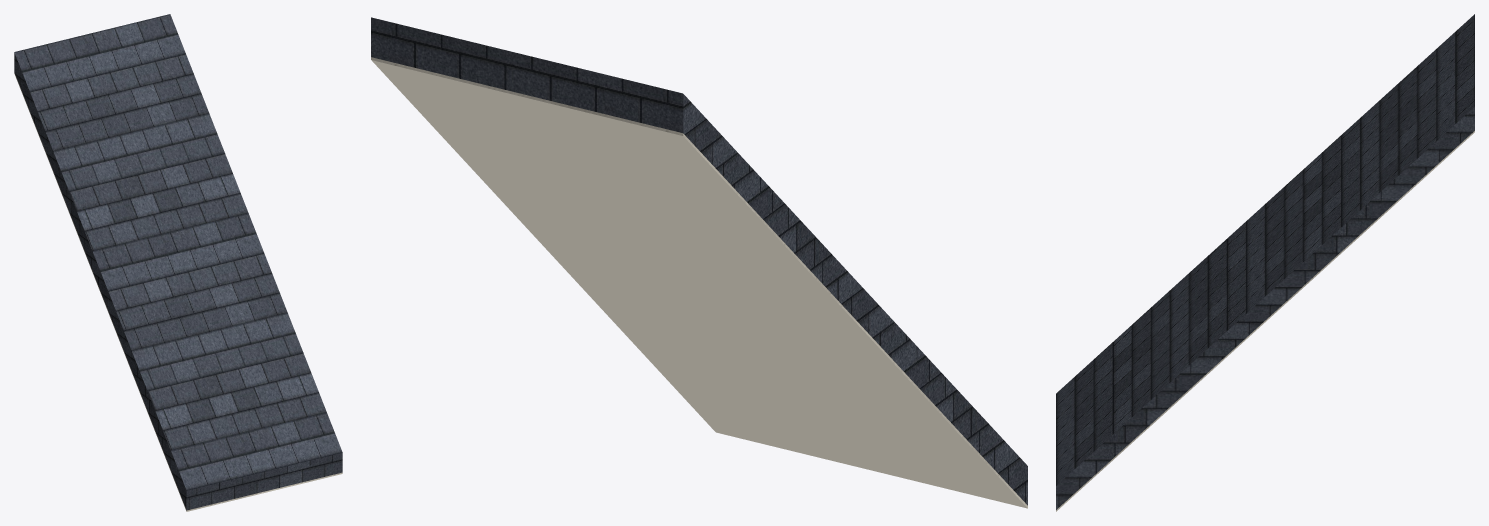
Rendered from roof_slope_end.glb.
The picture shows the model from 3 angles, left to right: view 1: azimuth 30°, elevation 25°; view 2: azimuth 150°, elevation 25°; view 3: azimuth 270°, elevation 25°; orthographic projection. The views are drawn at different scales.
Parts seen in each view (by area): view 1: roof_slope_end_shingle, roof_slope_end_plaster; view 2: roof_slope_end_plaster, roof_slope_end_shingle; view 3: roof_slope_end_shingle, roof_slope_end_plaster.
Boxes of the visible parts, bbox=[...] form: roof_slope_end_shingle: bbox=[14, 14, 342, 510]; roof_slope_end_plaster: bbox=[14, 73, 342, 511]; roof_slope_end_plaster: bbox=[371, 57, 1027, 508]; roof_slope_end_shingle: bbox=[371, 17, 1027, 505]; roof_slope_end_shingle: bbox=[1056, 14, 1474, 509]; roof_slope_end_plaster: bbox=[1056, 131, 1474, 511].
Bounding box in the file's own units: 2.3 × 4.7 × 4.4.
2 materials, 2 textured.
